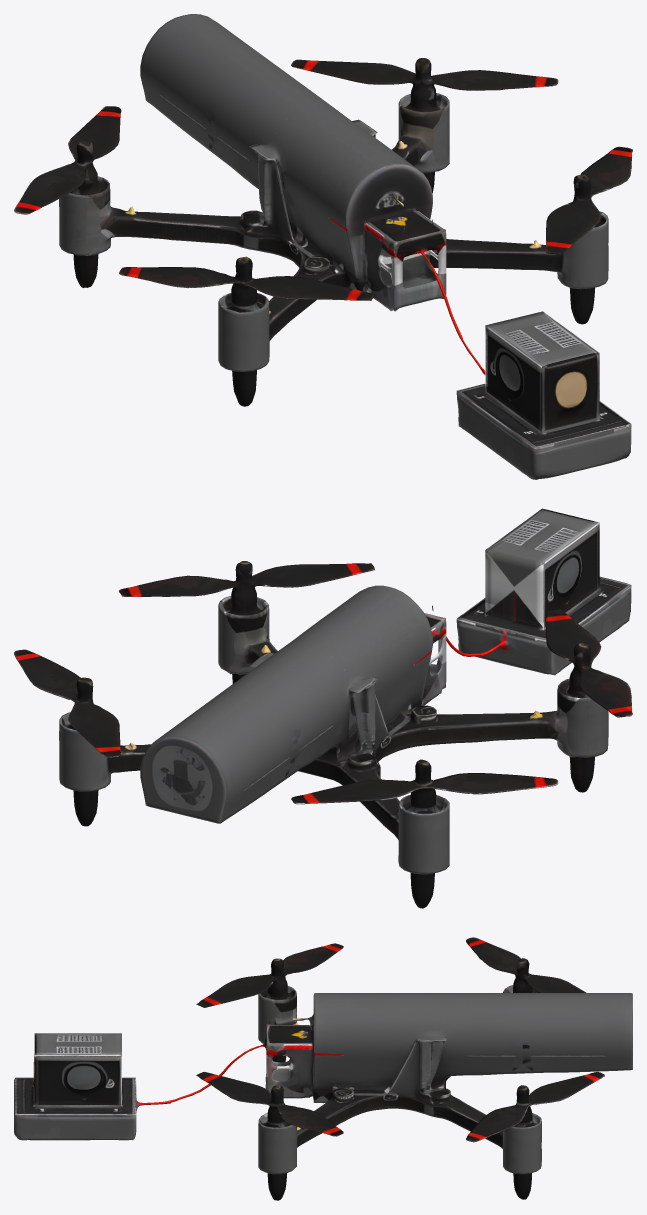
Rendered from rodin_long_fiber_fpv.glb.
3 renders of one model, top to bottom at view 1: azimuth 30°, elevation 25°; view 2: azimuth 150°, elevation 25°; view 3: azimuth 270°, elevation 25°, orthographic. The views are drawn at different scales.
Parts seen in each view (by area): view 1: Object_2; view 2: Object_2; view 3: Object_2.
Part boxes in pixels (bbox=[...]): Object_2: bbox=[14, 14, 632, 479]; Object_2: bbox=[14, 508, 632, 908]; Object_2: bbox=[14, 937, 632, 1200].
Size of the model in its own units: 1.48 by 0.4719 by 1.9.
1 material, 1 textured.
